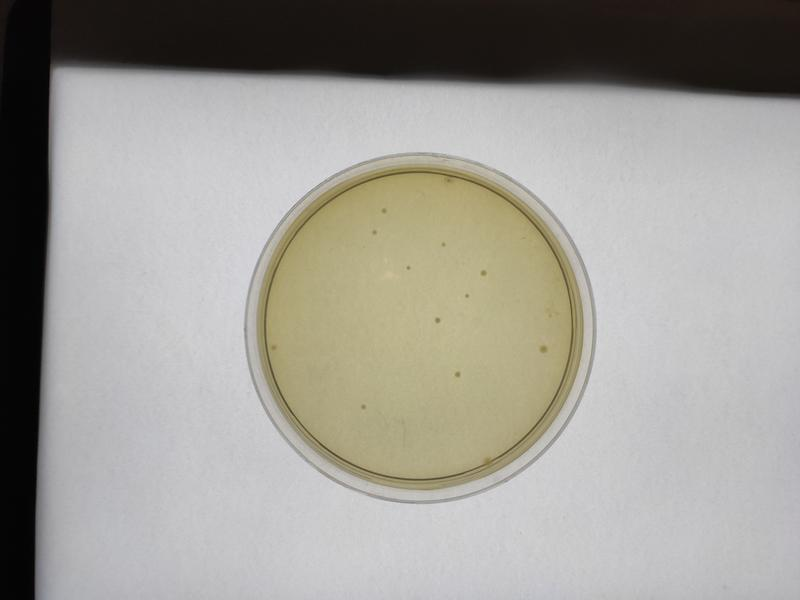colony: (537, 343, 552, 359), (428, 313, 443, 327), (451, 368, 464, 382), (400, 261, 413, 275), (437, 237, 448, 253), (476, 268, 490, 280), (355, 401, 369, 413), (367, 227, 380, 239), (378, 204, 389, 216)
